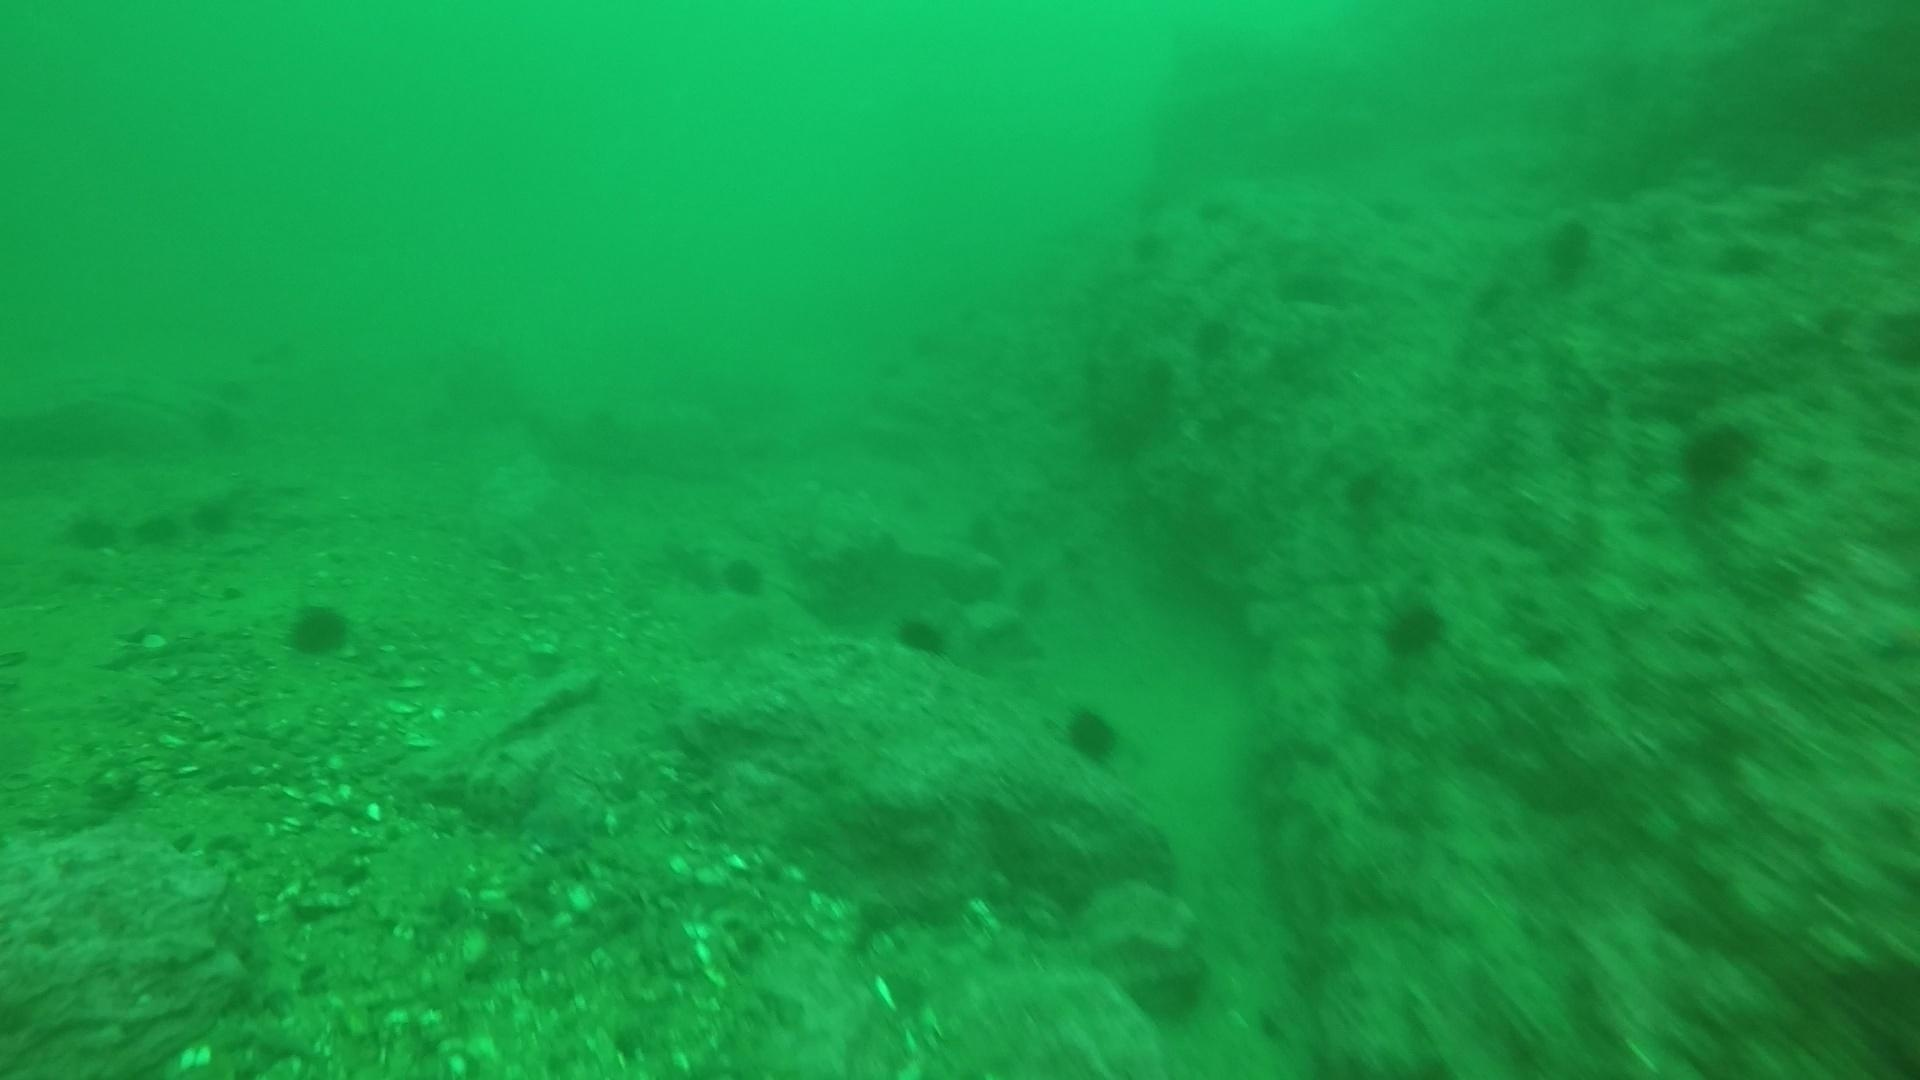echinus: (1672, 413, 1764, 493), (1374, 589, 1453, 665), (280, 595, 359, 665), (1535, 212, 1602, 286), (1058, 699, 1127, 767), (55, 502, 124, 556), (890, 607, 953, 662), (1131, 345, 1188, 397), (1276, 266, 1333, 318), (1185, 179, 1242, 231), (193, 402, 249, 454), (187, 491, 243, 542), (133, 498, 189, 550), (1176, 313, 1232, 364), (193, 363, 248, 414), (1006, 566, 1062, 617), (960, 512, 1015, 563), (1117, 216, 1174, 266), (717, 551, 771, 603), (1387, 175, 1443, 225)
